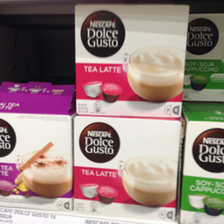coffee: (72, 2, 190, 118), (72, 114, 183, 224), (1, 81, 74, 212)
